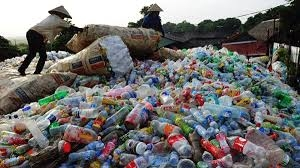plastic: (227, 134, 267, 160), (60, 123, 102, 145), (125, 99, 154, 130), (24, 117, 51, 149), (165, 131, 195, 158), (37, 90, 70, 106), (68, 106, 100, 120), (123, 139, 147, 157), (192, 123, 211, 139), (254, 111, 264, 127)
